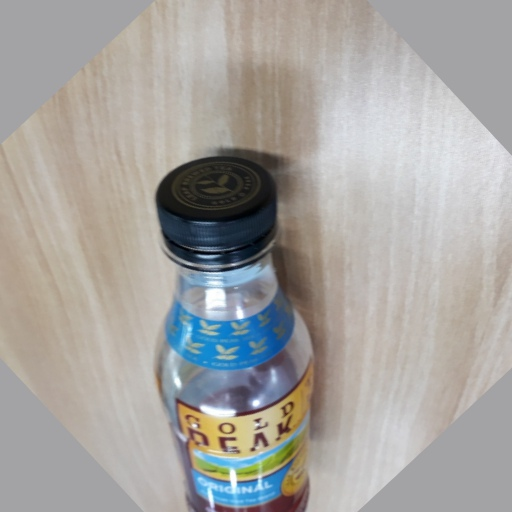Plastic_0: (148, 155, 315, 512)
